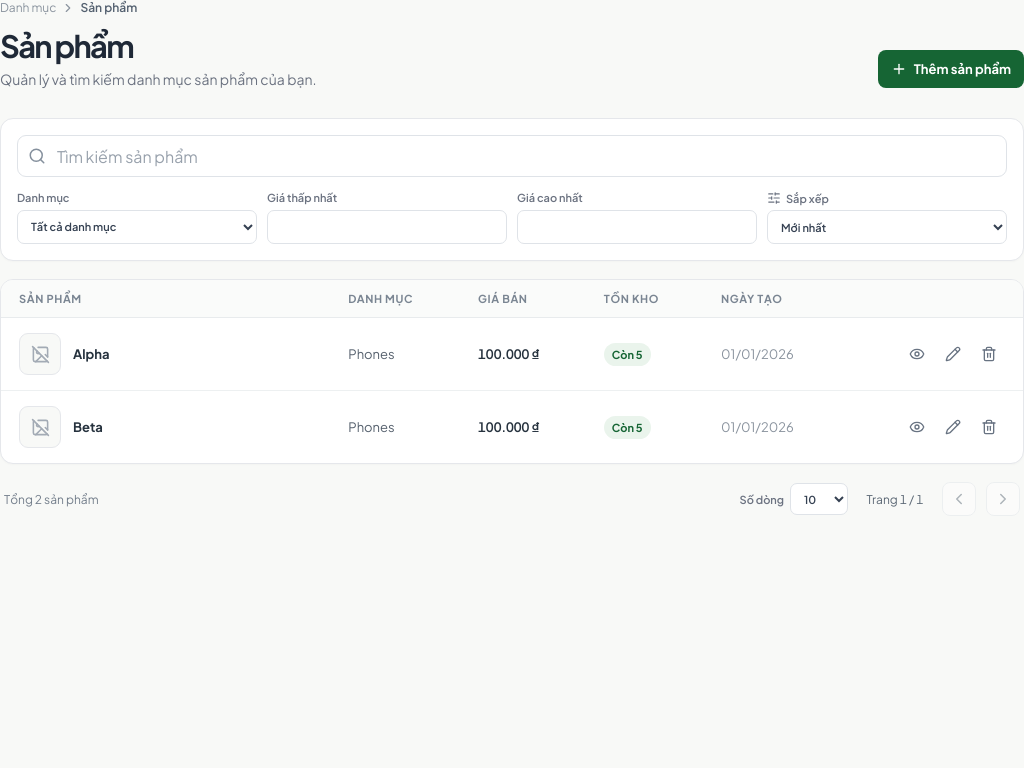
Test: ProductsPage › deleting a product refetches the list so the deleted row disappears
Check: the text "Alpha" is shown, box top-left (73, 346), bottom-right (110, 362)
Click the button named "Xóa Alpha". click: (989, 354)
box: top-left (973, 338), bottom-right (1005, 370)
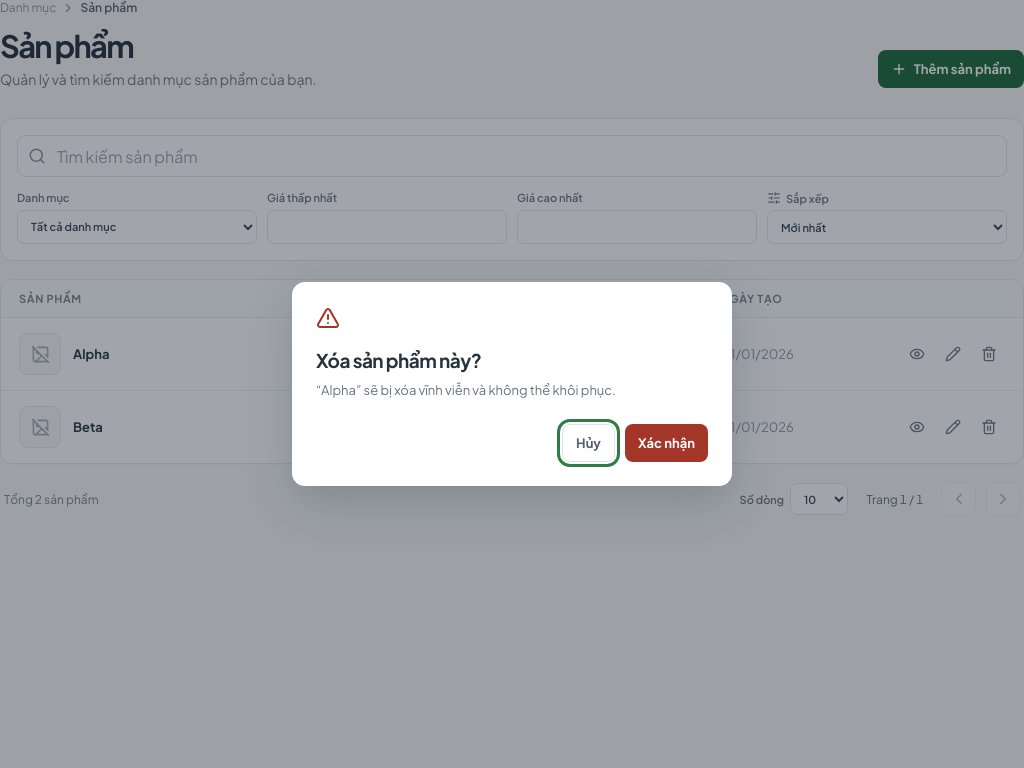
Click the button "Xác nhận". click: (666, 443)
box: top-left (625, 424), bottom-right (708, 462)
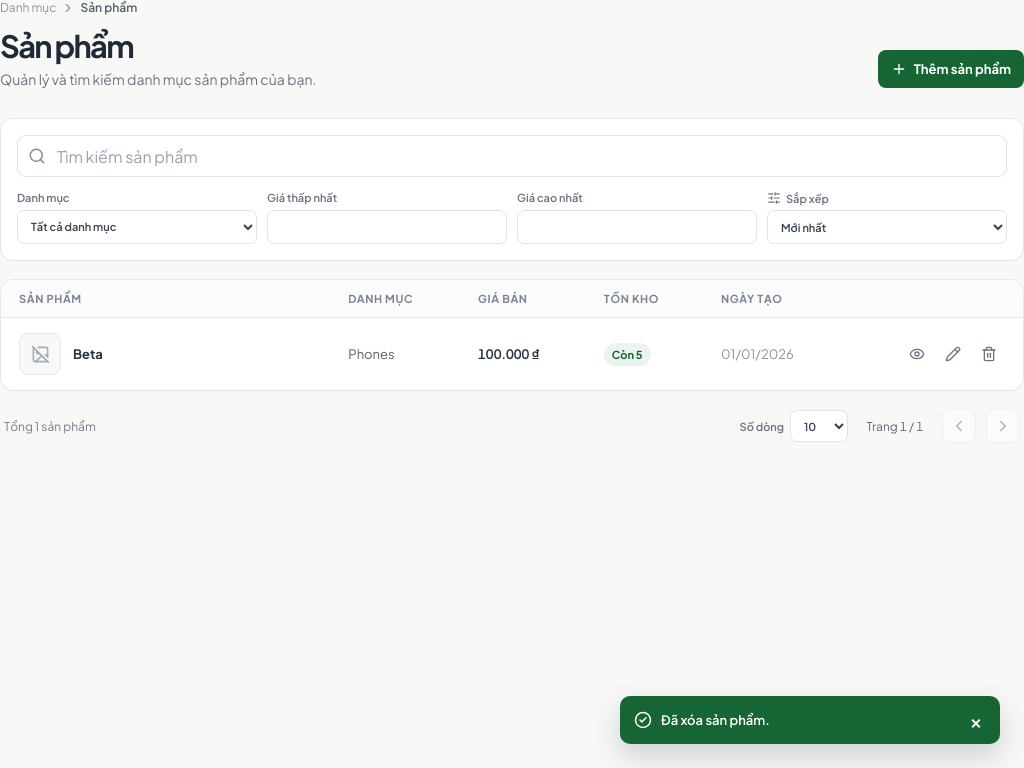
Check: the text "Alpha" is gone
Check: the text "Đã xóa sản phẩm." is shown, box top-left (661, 712), bottom-right (770, 728)
Check: the dialog is gone
